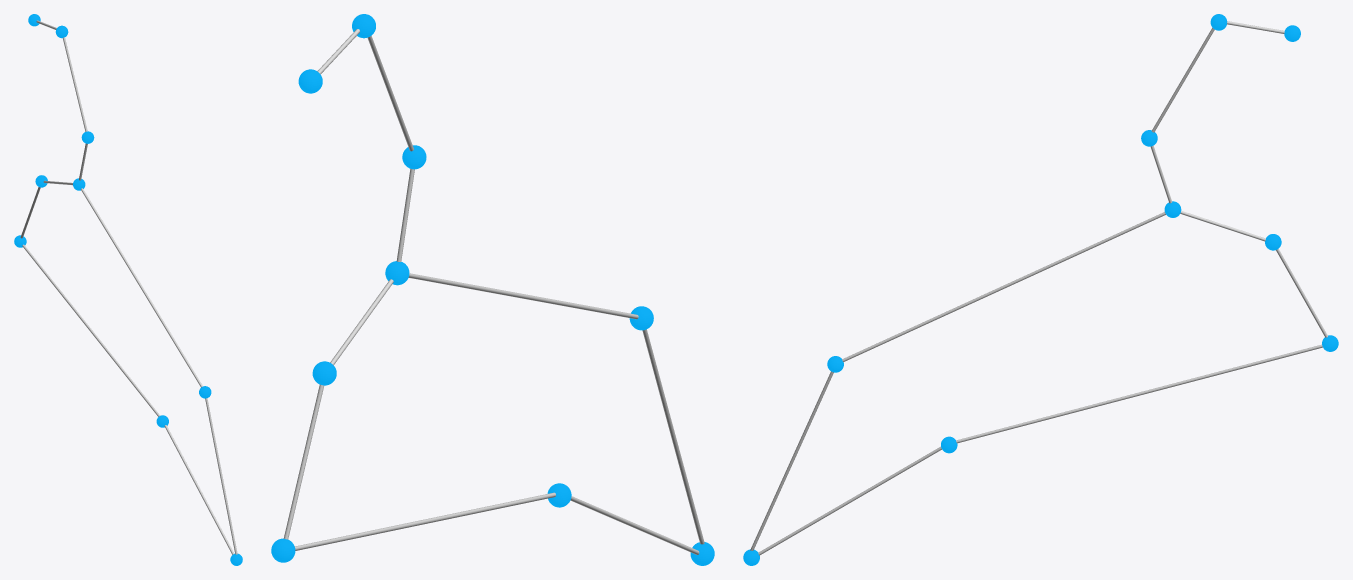
File: Singh.glb
3 views of the same model, side by side, from view 1: azimuth 30°, elevation 25°; view 2: azimuth 150°, elevation 25°; view 3: azimuth 270°, elevation 25° (orthographic). The views are drawn at different scales.
Parts seen in each view (by area): view 1: BézierCurve.007; view 2: BézierCurve.007; view 3: BézierCurve.007.
Boxes of the visible parts, x1=… form: BézierCurve.007: x1=14, y1=14, x2=242, y2=565; BézierCurve.007: x1=271, y1=14, x2=714, y2=565; BézierCurve.007: x1=743, y1=14, x2=1338, y2=565.
Size of the model in its own units: 0.1011 by 3.67 by 3.6.
